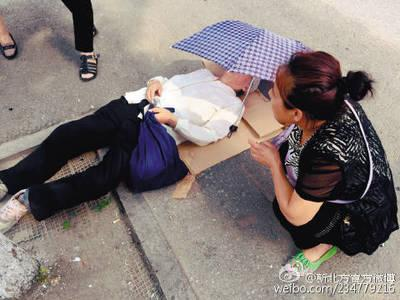bending: (261, 47, 400, 291)
down: (1, 48, 261, 236)
